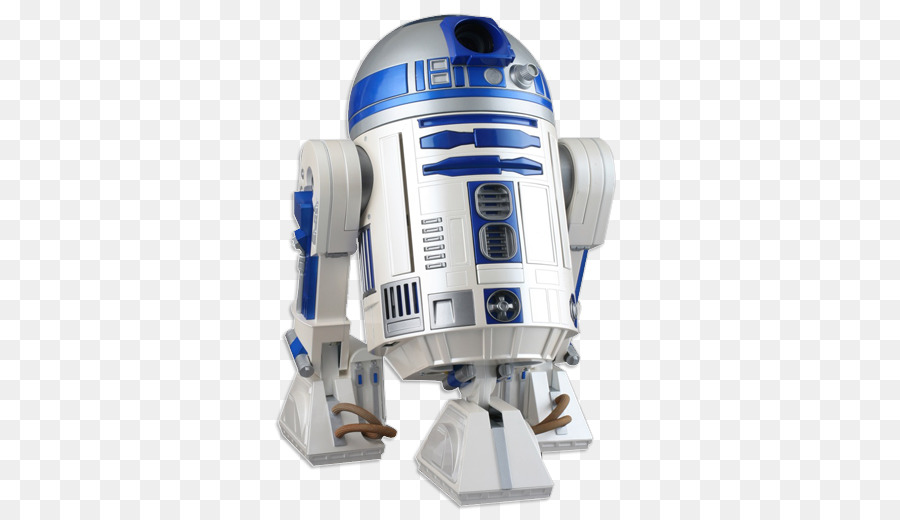r2d2: (281, 14, 614, 502)
